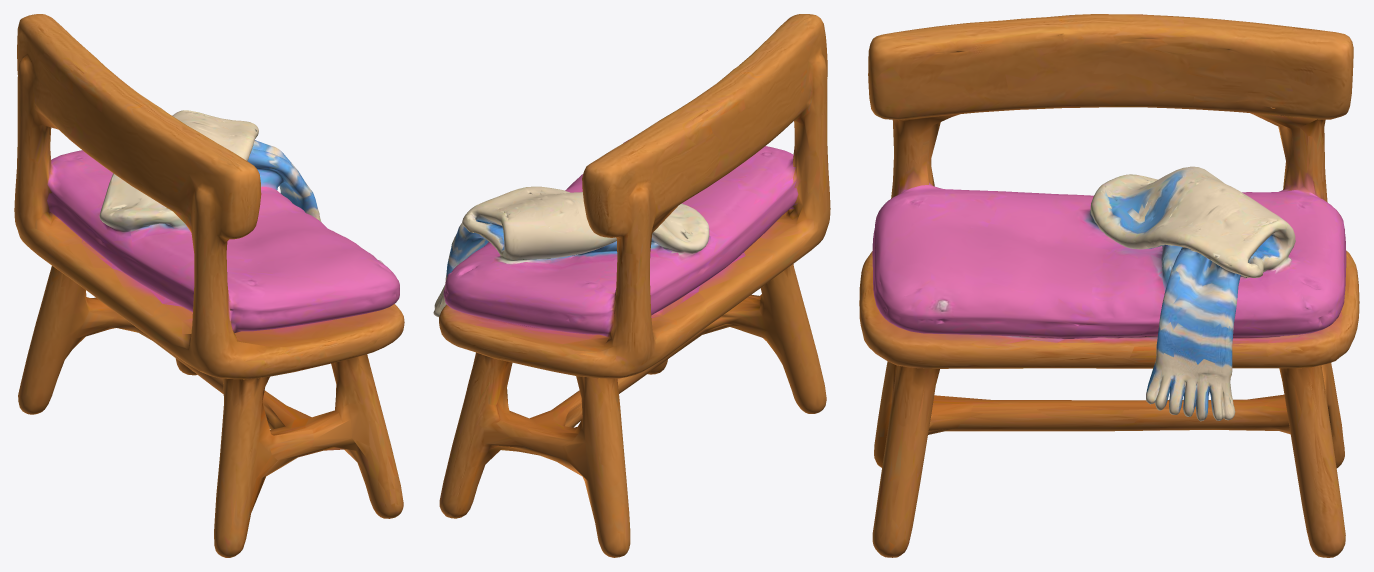
The model's file is scene-hall-bench.glb.
3 renders of one model, left to right at view 1: azimuth 30°, elevation 25°; view 2: azimuth 150°, elevation 25°; view 3: azimuth 270°, elevation 25°, orthographic. The views are drawn at different scales.
Parts seen in each view (by area): view 1: tripo_node_a3baf861-1edd-4259-8238-a9022ee582ba; view 2: tripo_node_a3baf861-1edd-4259-8238-a9022ee582ba; view 3: tripo_node_a3baf861-1edd-4259-8238-a9022ee582ba.
Boxes of the visible parts, x1=… form: tripo_node_a3baf861-1edd-4259-8238-a9022ee582ba: x1=14, y1=14, x2=404, y2=557; tripo_node_a3baf861-1edd-4259-8238-a9022ee582ba: x1=433, y1=14, x2=830, y2=557; tripo_node_a3baf861-1edd-4259-8238-a9022ee582ba: x1=859, y1=14, x2=1359, y2=557.
Bounding box in the file's own units: 0.6592 × 0.9559 × 0.9779.
Materials: 1 (1 with a texture image).
